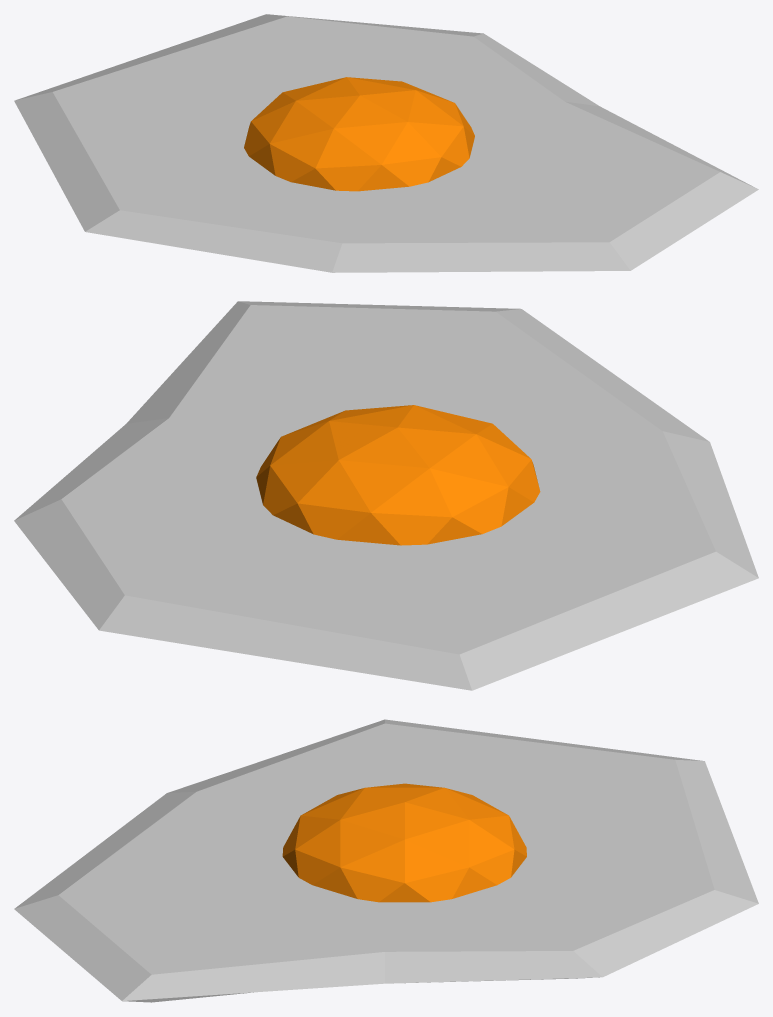
File: Fried Egg.fbx
The picture shows the model from 3 angles, top to bottom: view 1: azimuth 30°, elevation 25°; view 2: azimuth 150°, elevation 25°; view 3: azimuth 270°, elevation 25°; orthographic projection. The views are drawn at different scales.
Parts seen in each view (by area): view 1: Fried Egg; view 2: Fried Egg; view 3: Fried Egg.
Part boxes in pixels (left/top/right/bottom): Fried Egg: left=14, top=14, right=758, bottom=272; Fried Egg: left=14, top=301, right=758, bottom=690; Fried Egg: left=14, top=719, right=758, bottom=1002.
Size of the model in its own units: 8.29 by 1.06 by 9.26.
